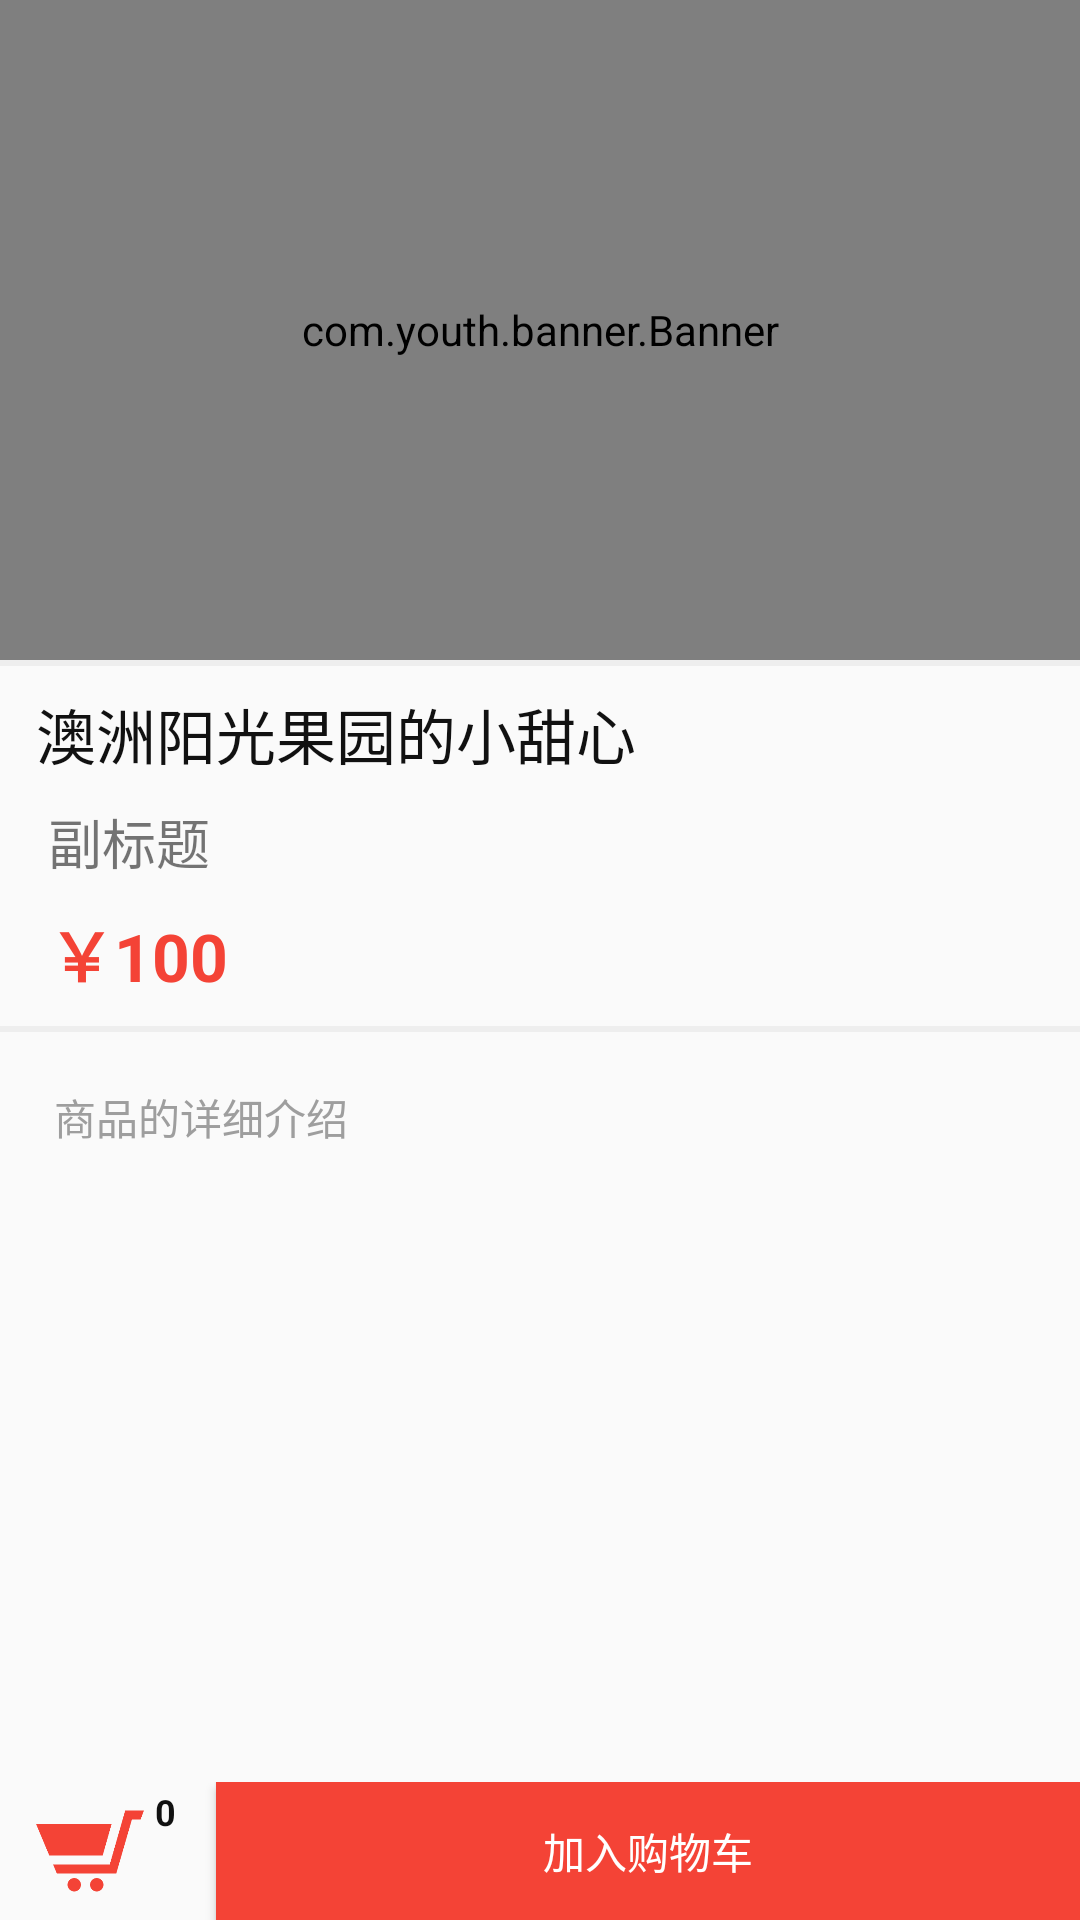

Icon click points for this 1080*1920 phone screenshot, format [x,y]:
shopping cart: [90,1851]
